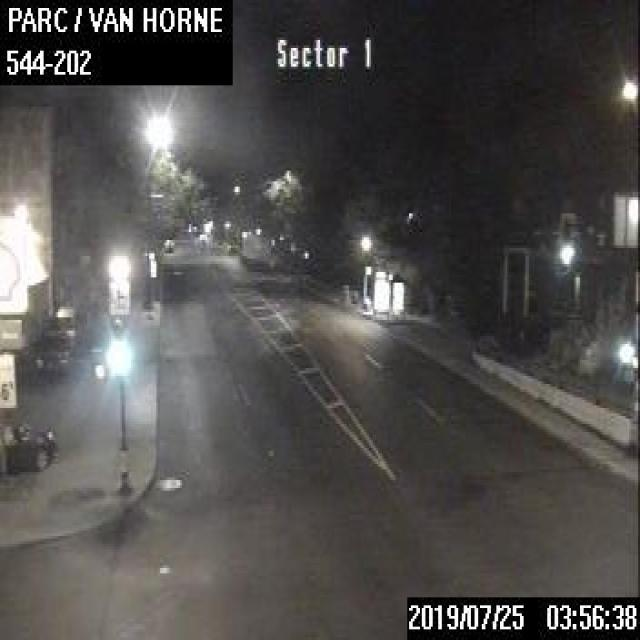vehicle: (0, 417, 55, 471), (34, 332, 70, 372), (52, 304, 80, 348)
